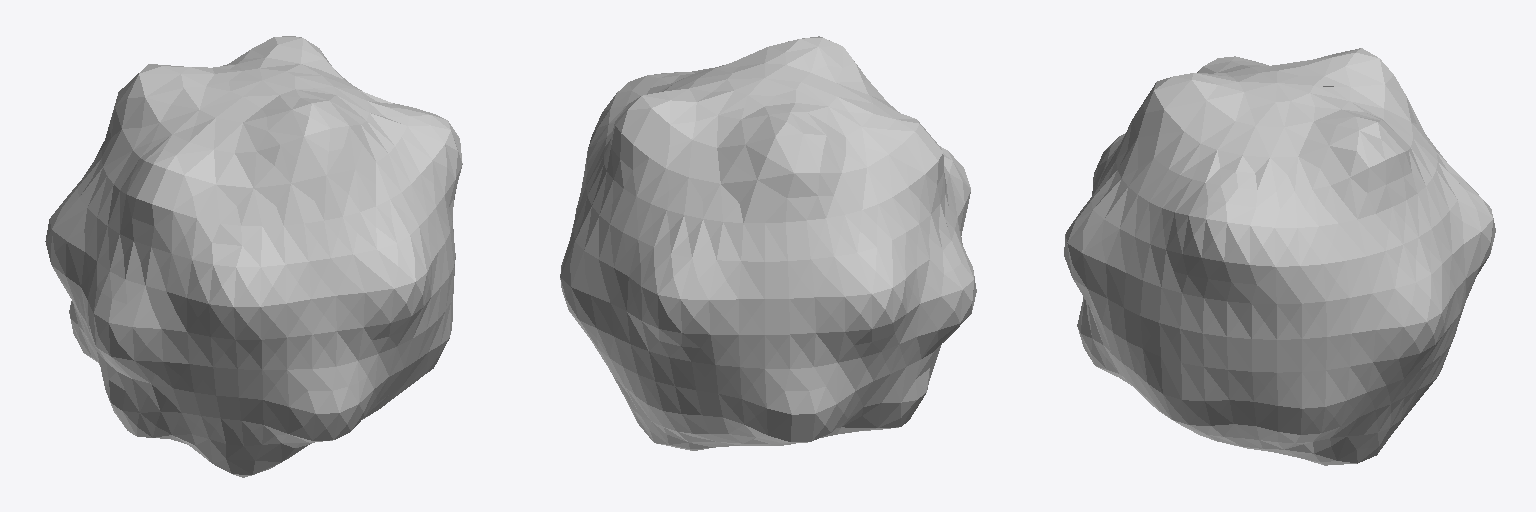
The model's file is orb.obj.
The picture shows the model from 3 angles: view 1: azimuth 30°, elevation 25°; view 2: azimuth 150°, elevation 25°; view 3: azimuth 270°, elevation 25°; orthographic projection.
Parts seen in each view (by area): view 1: Sphere; view 2: Sphere; view 3: Sphere.
Boxes of the visible parts, x1=… form: Sphere: x1=45, y1=36, x2=462, y2=477; Sphere: x1=560, y1=36, x2=976, y2=450; Sphere: x1=1064, y1=48, x2=1495, y2=465.
Size of the model in its own units: 1.51 by 1.46 by 1.57.